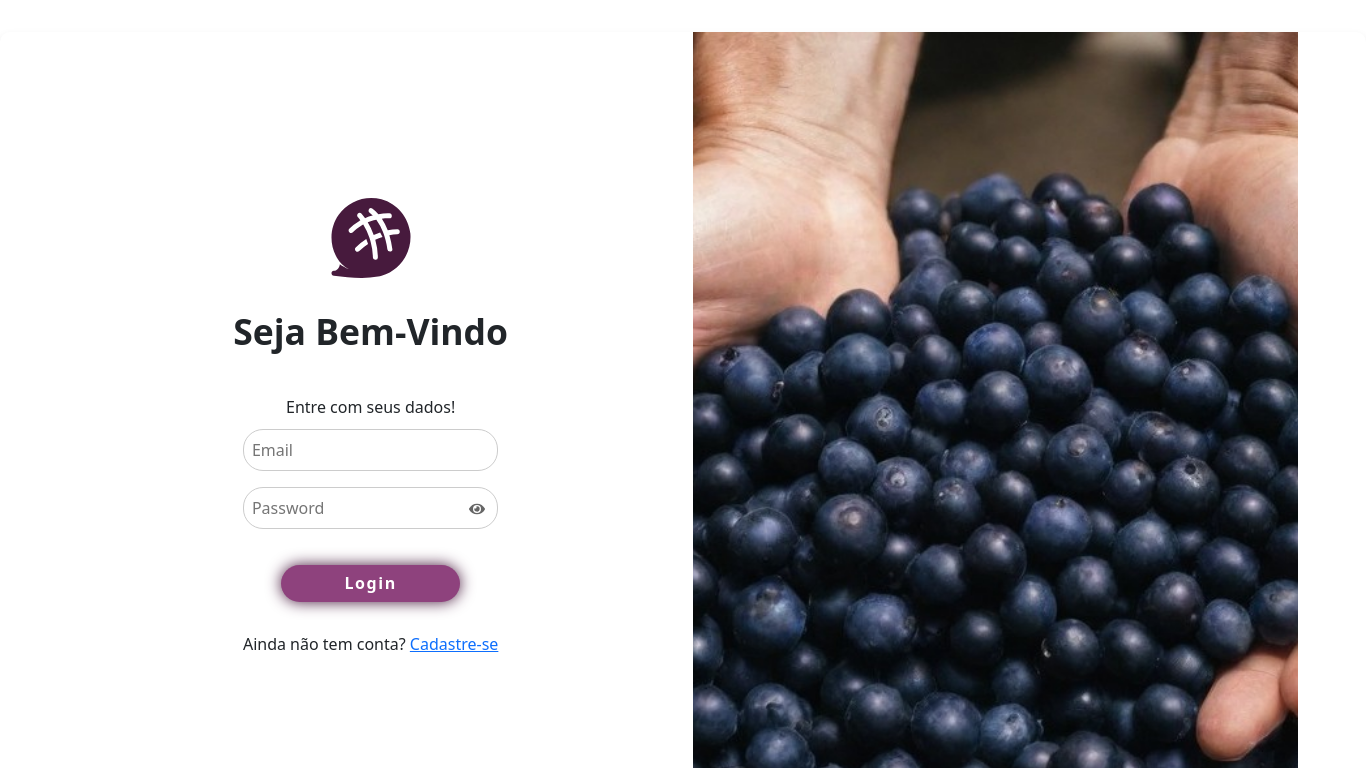
Login Component › Deve exibir erro ao realizar login com credenciais inválidas
Type "email@invalido.com" into the field with placeholder "Email" at (371, 450), box [243,428,498,470]
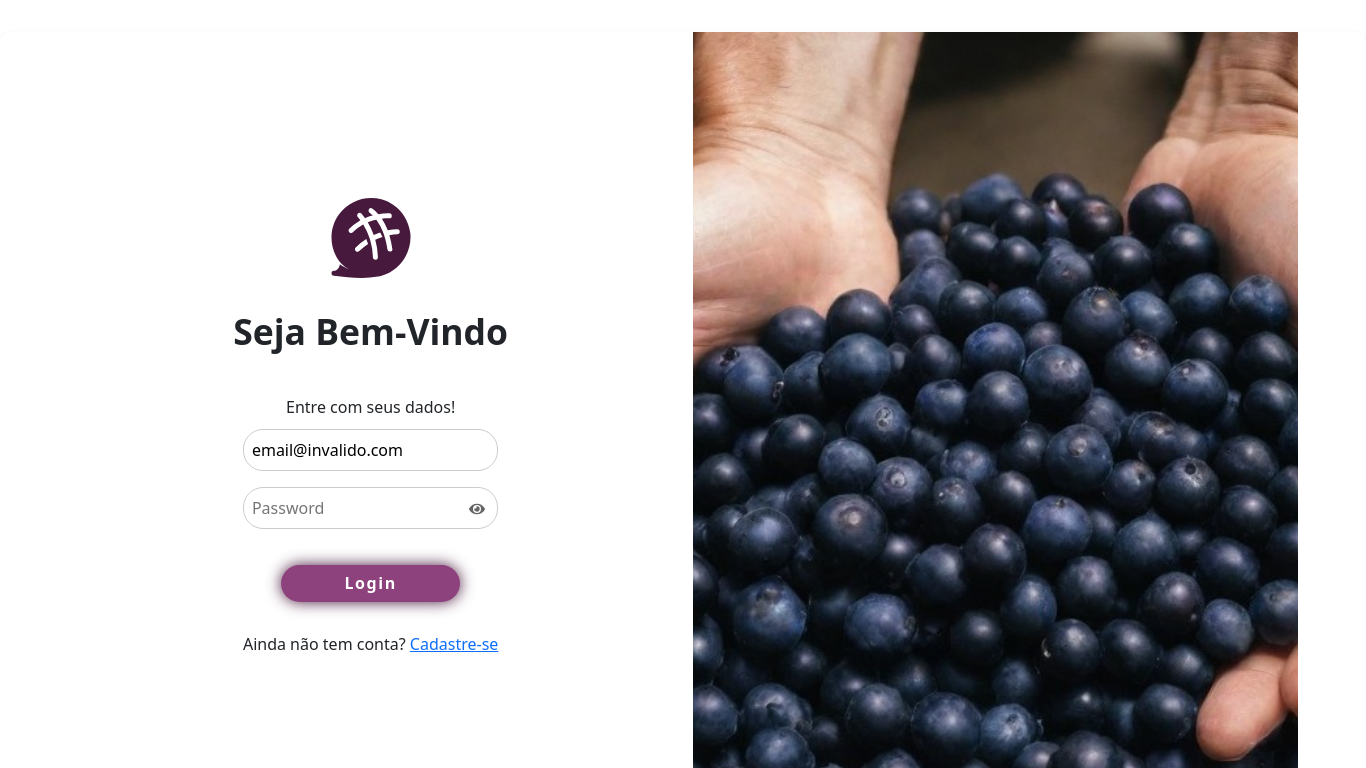
Type "senhaerrada" into the password field with placeholder "Password" at (371, 508), box [243,486,498,528]
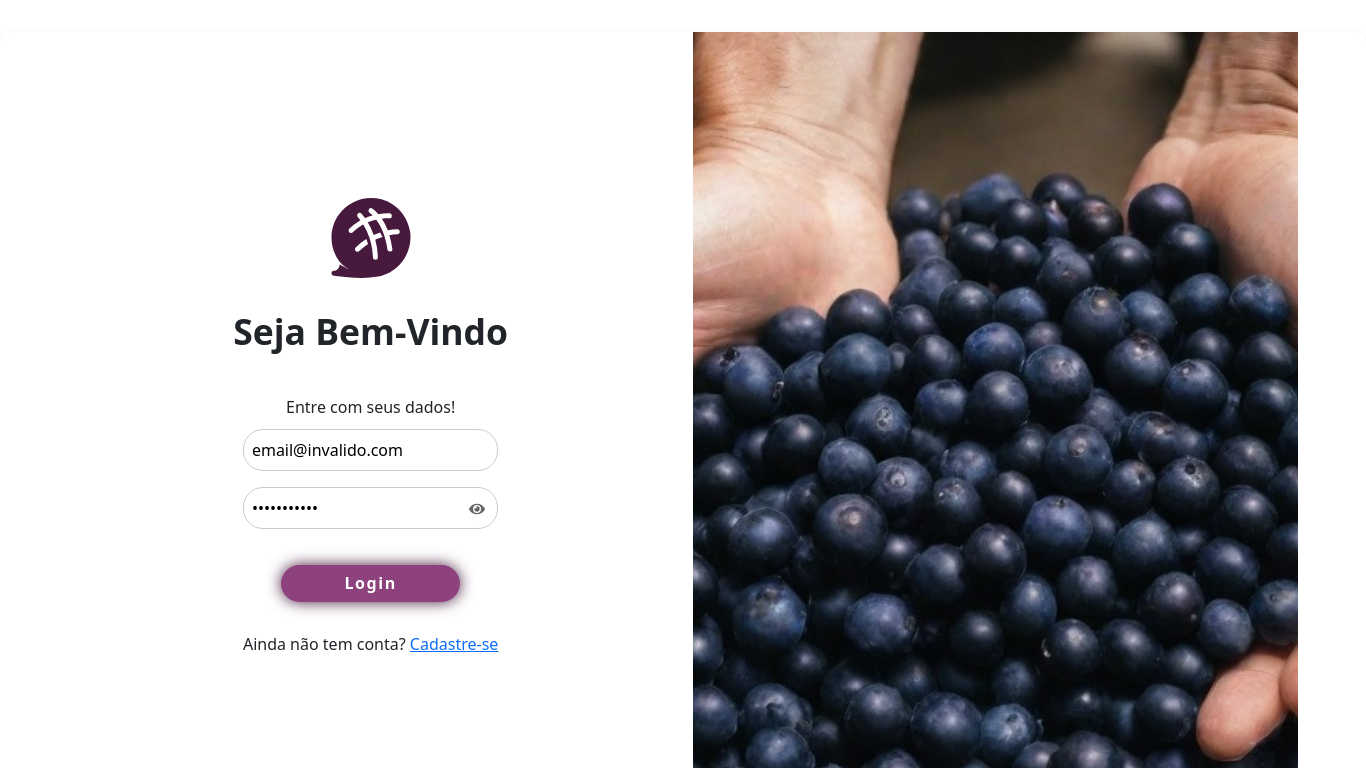
Submit the form from the button "Login", box [281,564,460,602]
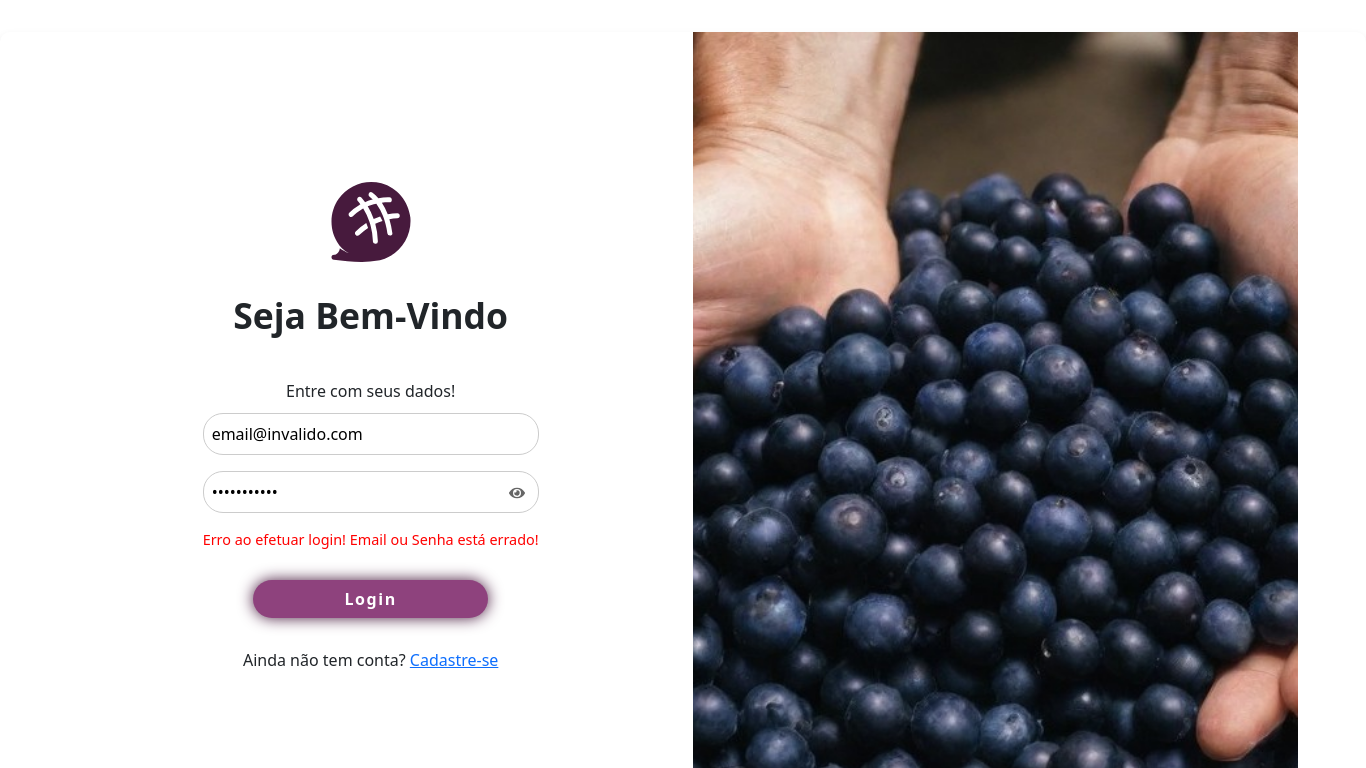
Expected: the text "Erro ao efetuar login! Email ou Senha está errado!" is shown, [203,529,539,550]
